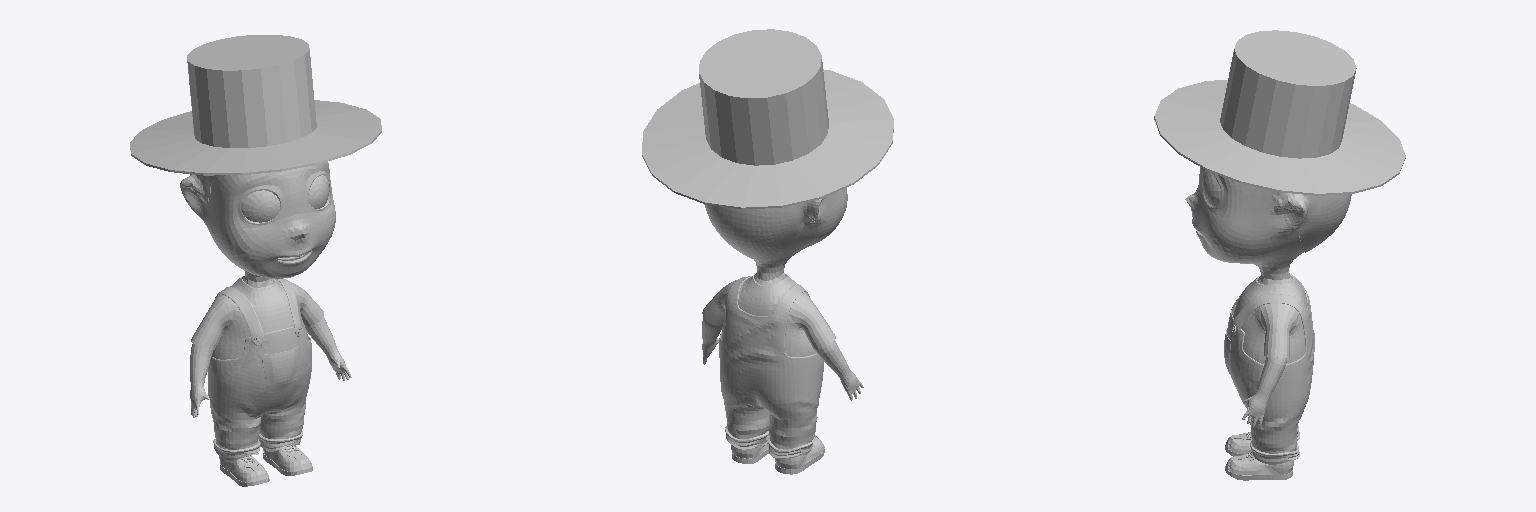
3 views of the same model, side by side, from view 1: azimuth 30°, elevation 25°; view 2: azimuth 150°, elevation 25°; view 3: azimuth 270°, elevation 25° (orthographic).
Visible parts, largest first — view 1: hat_red_메쉬.025, Body_메쉬.010, jeans_메쉬.004, T_shirt_in_메쉬.020, cloth_01_메쉬.021, R_eye_메쉬.012, R_shoe_p1_메쉬.008, L_shoe_p1_메쉬.023, L_eye_메쉬.013; view 2: hat_red_메쉬.025, jeans_메쉬.004, T_shirt_in_메쉬.020, Body_메쉬.010, Hairs_메쉬.011, R_shoe_p1_메쉬.008; view 3: hat_red_메쉬.025, Body_메쉬.010, jeans_메쉬.004, T_shirt_in_메쉬.020, Hairs_메쉬.011, L_shoe_p1_메쉬.023.
Part boxes in pixels (x1,y1,x2,y2): hat_red_메쉬.025: (130, 35, 381, 175); Body_메쉬.010: (180, 162, 351, 417); jeans_메쉬.004: (208, 278, 311, 449); T_shirt_in_메쉬.020: (191, 276, 323, 359); cloth_01_메쉬.021: (262, 346, 298, 390); R_eye_메쉬.012: (241, 190, 279, 222); R_shoe_p1_메쉬.008: (219, 455, 268, 482); L_shoe_p1_메쉬.023: (263, 446, 312, 471); L_eye_메쉬.013: (308, 175, 329, 208); hat_red_메쉬.025: (642, 29, 893, 209); jeans_메쉬.004: (719, 276, 823, 449); T_shirt_in_메쉬.020: (702, 272, 835, 356); Body_메쉬.010: (702, 188, 863, 400); Hairs_메쉬.011: (704, 203, 804, 259); R_shoe_p1_메쉬.008: (775, 435, 824, 468); hat_red_메쉬.025: (1154, 30, 1405, 195); Body_메쉬.010: (1185, 167, 1308, 426); jeans_메쉬.004: (1227, 276, 1314, 453); T_shirt_in_메쉬.020: (1233, 274, 1307, 364); Hairs_메쉬.011: (1259, 188, 1351, 252); L_shoe_p1_메쉬.023: (1226, 453, 1293, 474).
Size of the model in its own units: 0.5105 by 0.9158 by 0.5035.